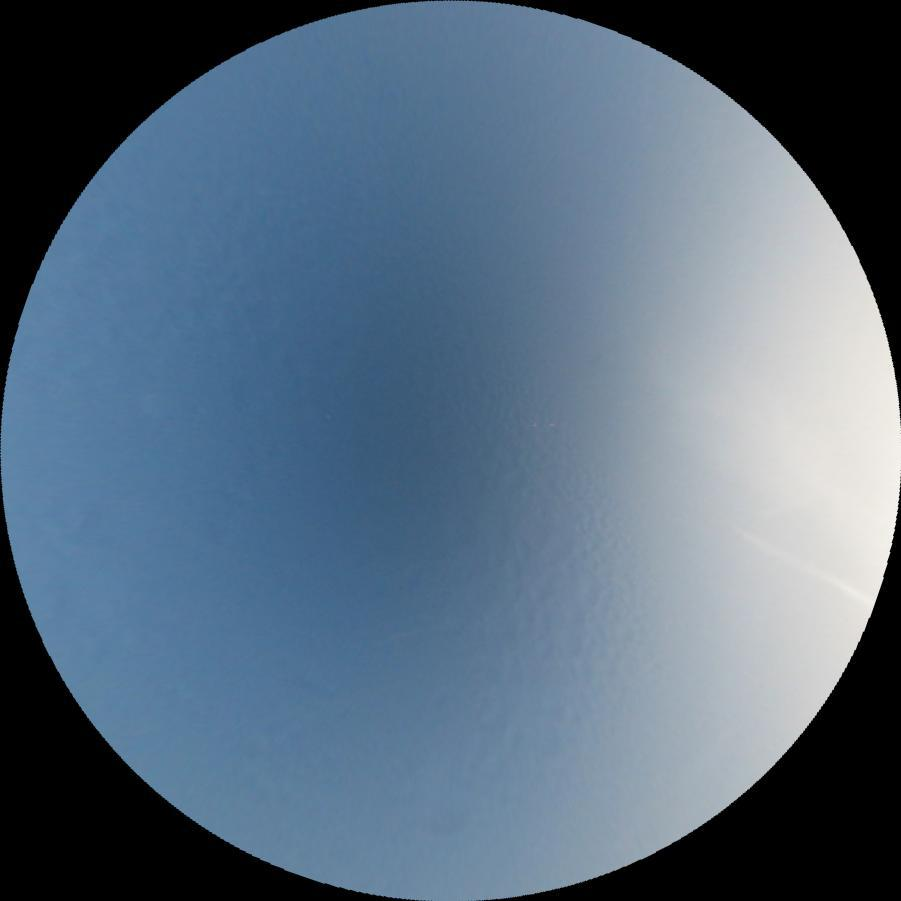contrail veryold: (735, 522, 878, 611)
